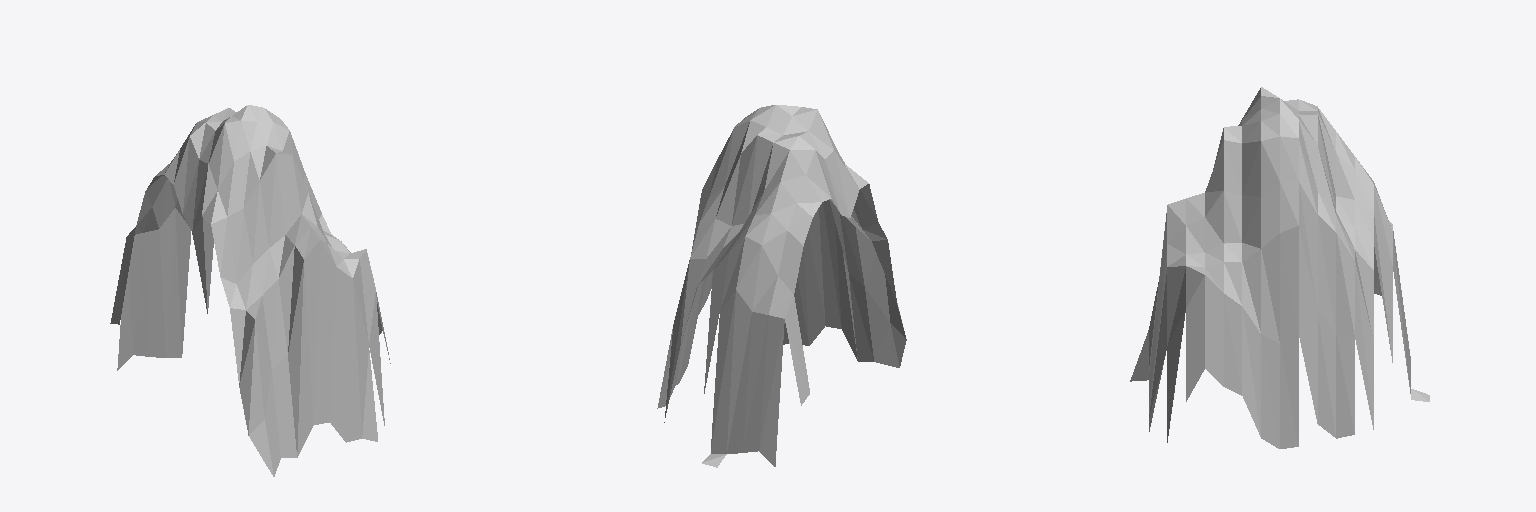
File: tree_21.obj
3 views of the same model, side by side, from view 1: azimuth 30°, elevation 25°; view 2: azimuth 150°, elevation 25°; view 3: azimuth 270°, elevation 25° (orthographic).
Parts seen in each view (by area): view 1: tree_21.001; view 2: tree_21.001; view 3: tree_21.001.
Part boxes in pixels (bbox=[...]): tree_21.001: bbox=[110, 105, 390, 476]; tree_21.001: bbox=[657, 105, 906, 467]; tree_21.001: bbox=[1130, 87, 1429, 448].
Size of the model in its own units: 11 by 18.05 by 16.